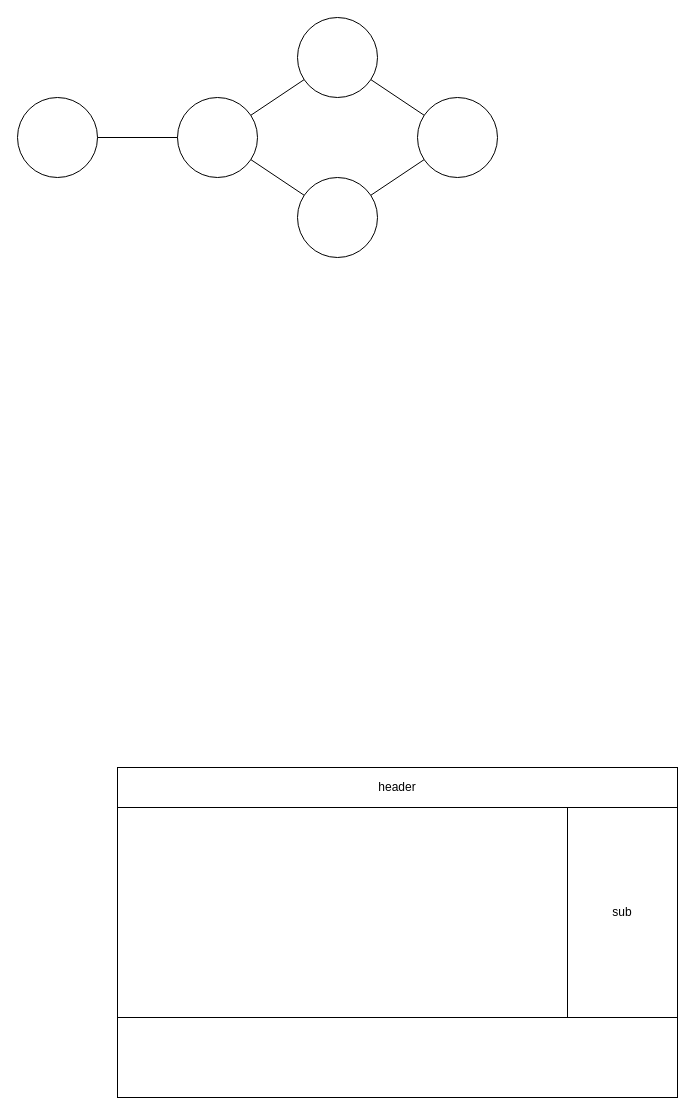
Some shapes in this 695 by 1115 pixel diagram are drawn without their labels. The centre of each missing label's shape, as x and y in pixels:
footer: [397,1057]
main: [342,912]
